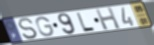4: (121, 6, 135, 27)
9: (57, 12, 77, 35)
G: (35, 16, 55, 37)
H: (95, 6, 123, 31)
L: (75, 11, 97, 32)
S: (17, 17, 40, 40)
